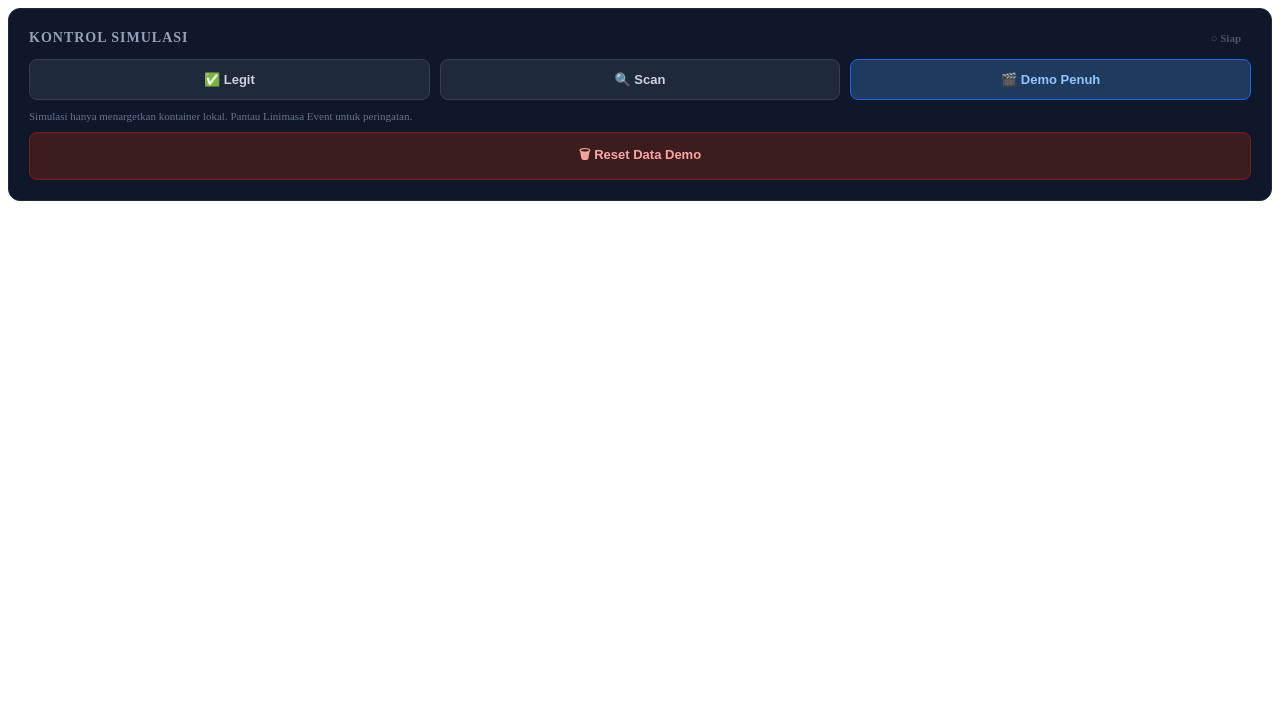
it: SimPanel › shows a confirmation dialog when Demo Penuh is clicked
Click the button "🎬 Demo Penuh". click: (1051, 80)
box: [850,59,1251,100]
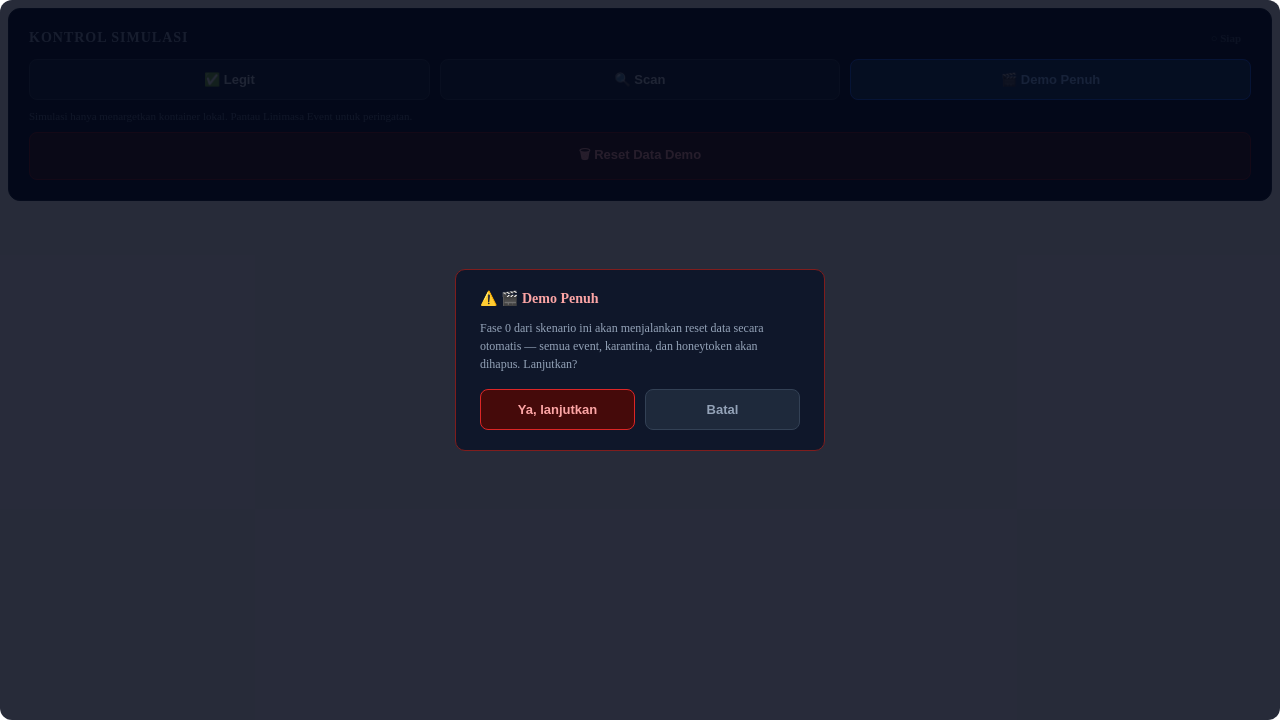
Check: the button "Ya, lanjutkan" is shown, box [480,389,635,430]
Check: the button "Batal" is shown, box [645,389,800,430]
Check: the text "reset data secara otomatis" is shown, box [480,321,764,371]
